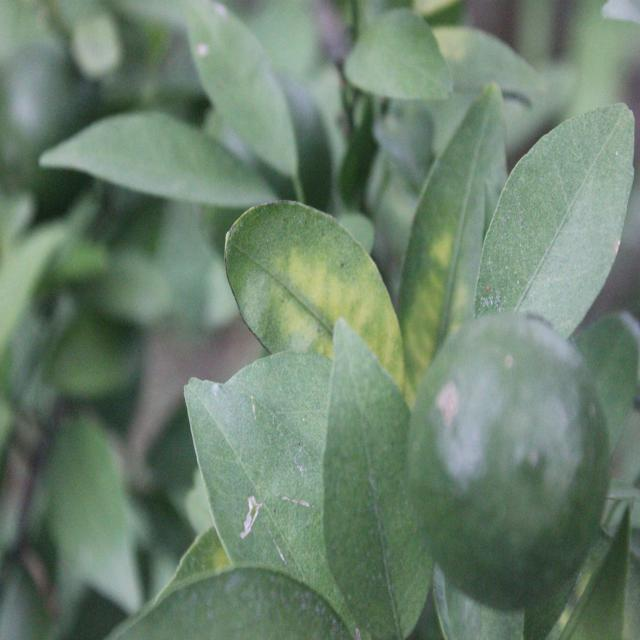blackspot: (246, 218, 362, 350)
